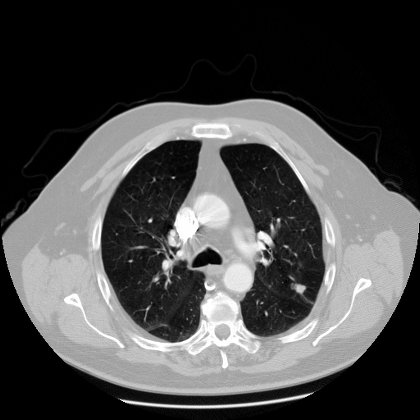nodule: (293, 282, 305, 294)
